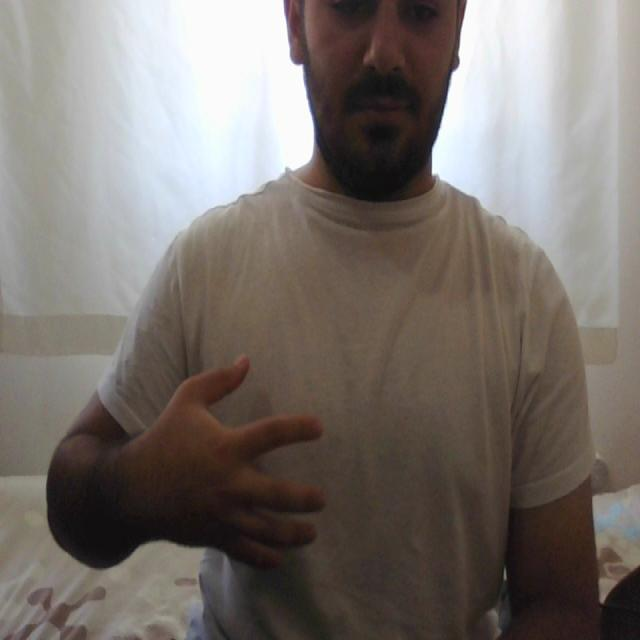Anne: (160, 345, 337, 587)
